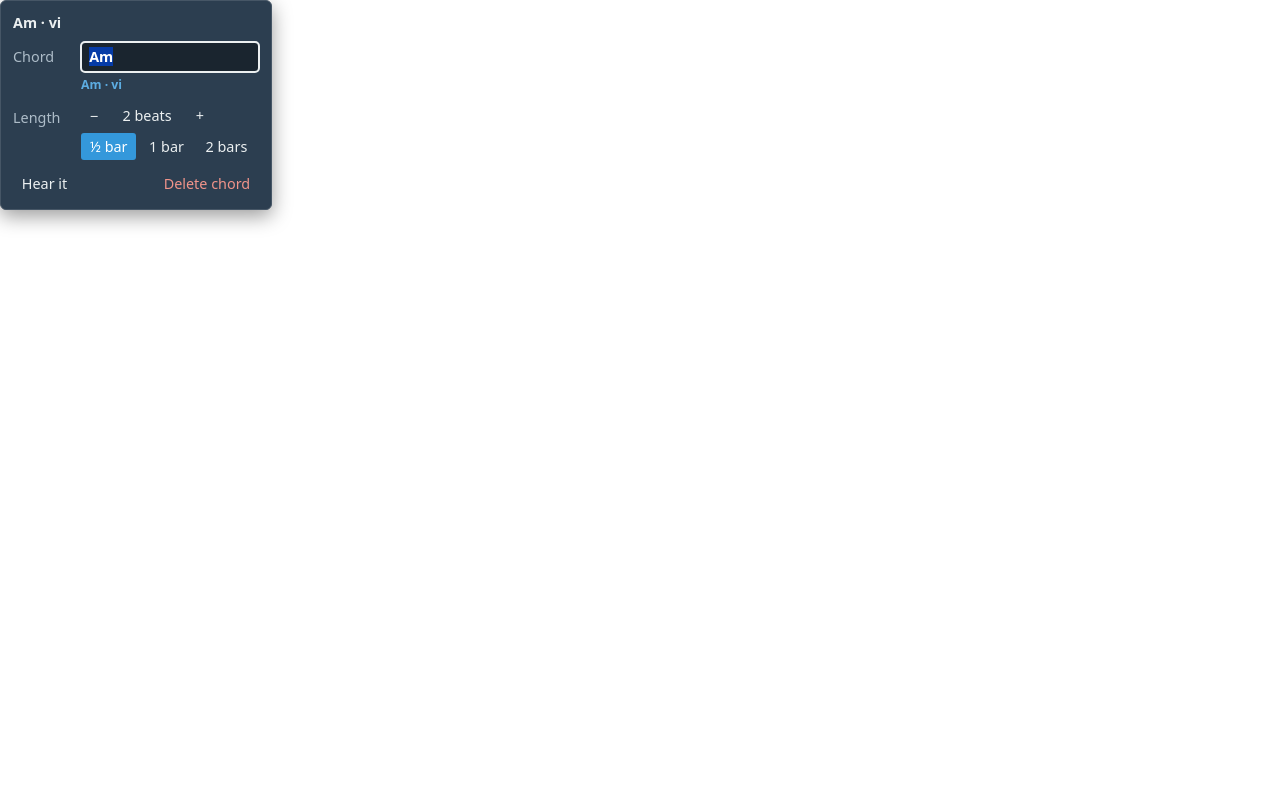
Scenario: SongChordPopoverComponent › the chord › changes nothing for text it cannot read, and stays open saying why
The image size is (1280, 800).
Replace the text in the field with class "chord-field-input" with "Q". click: (170, 57)
box: [81, 42, 259, 72]
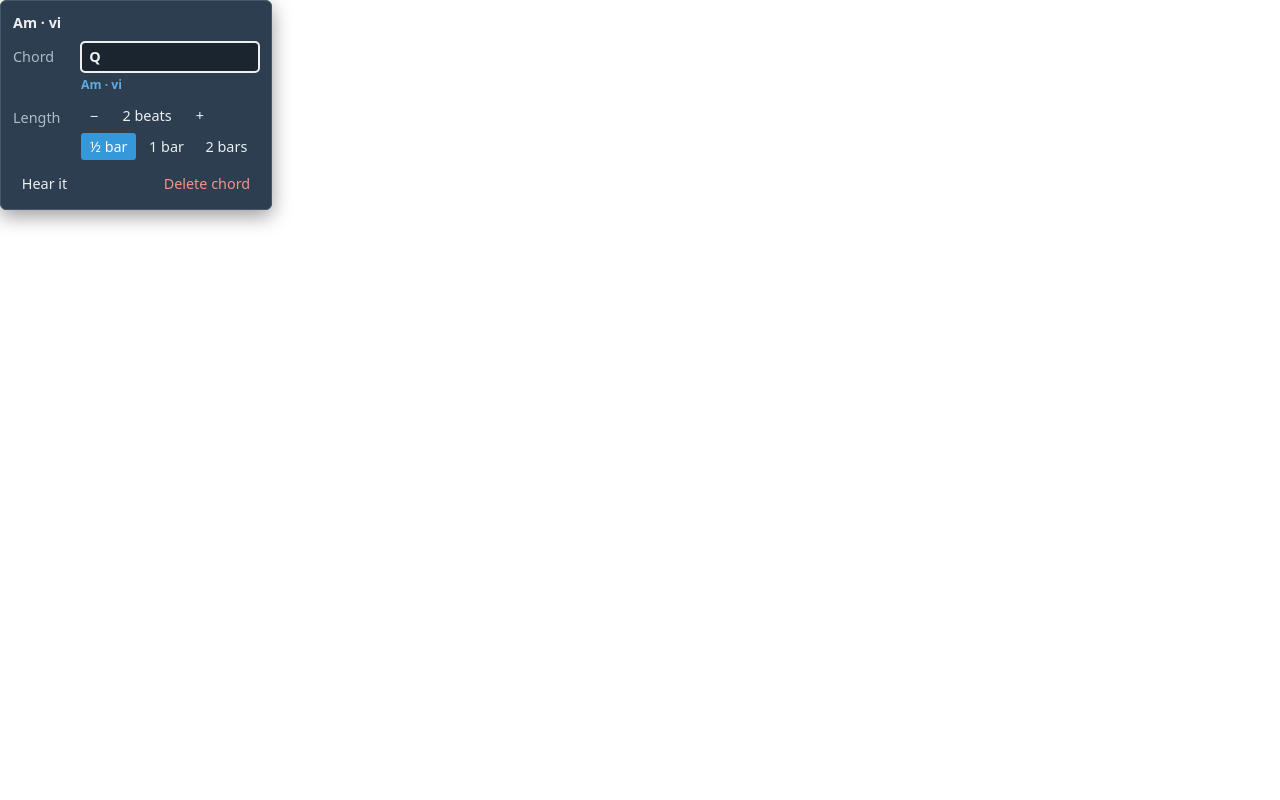
Press Enter in the field with class "chord-field-input", box [81, 42, 259, 72]
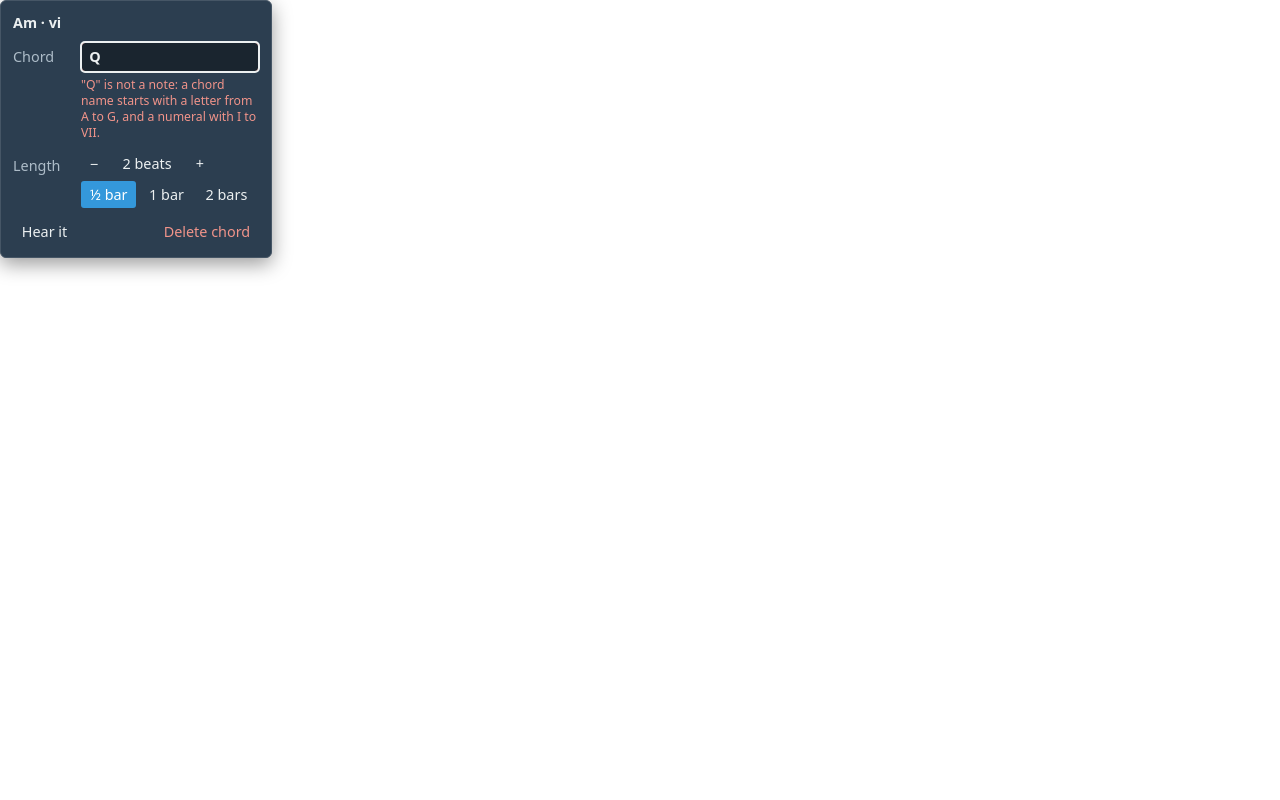
Expected: the text "\"Q\" is not a note" is shown, [81, 76, 256, 141]
